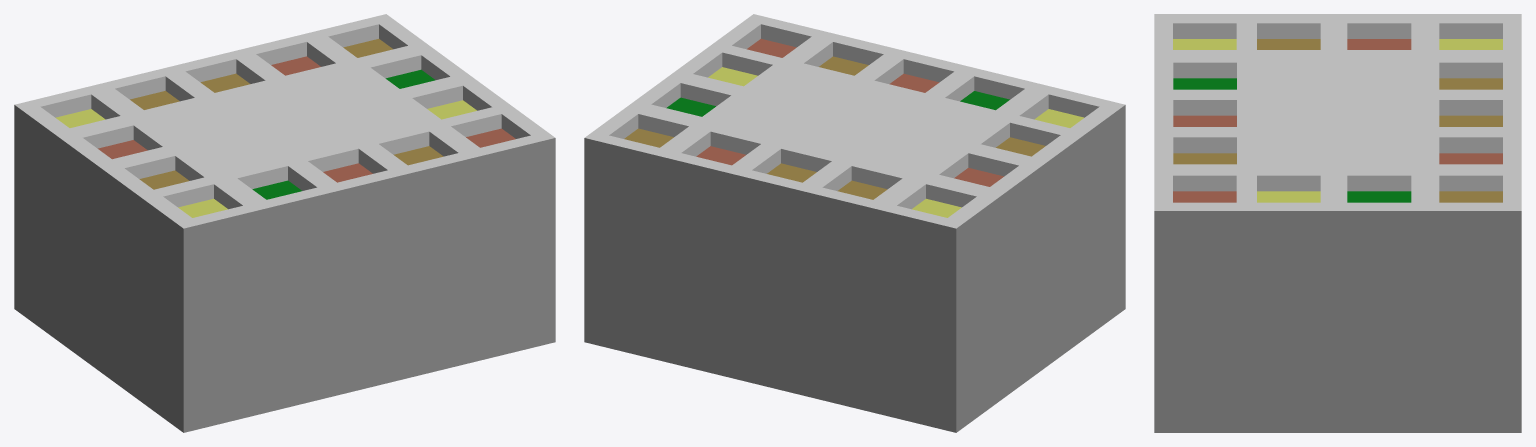
The model's file is buffet.gltf.
3 renders of one model, left to right at view 1: azimuth 30°, elevation 25°; view 2: azimuth 150°, elevation 25°; view 3: azimuth 270°, elevation 25°, orthographic. The views are drawn at different scales.
Visible parts, largest first — view 1: Cube; view 2: Cube; view 3: Cube.
Part boxes in pixels (bbox=[...]): Cube: bbox=[14, 14, 555, 432]; Cube: bbox=[584, 14, 1125, 432]; Cube: bbox=[1154, 14, 1521, 432].
Bounding box in the file's own units: 2.79 × 1.46 × 2.2.
